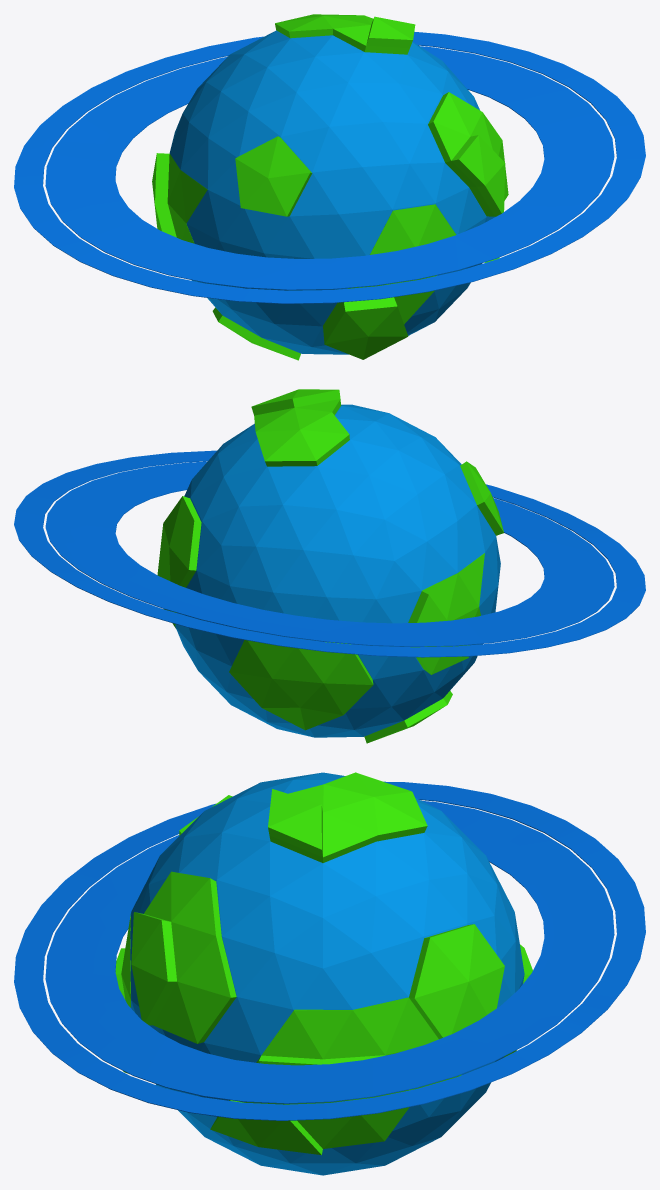
Rendered from Planette_bleu_vert.fbx.
The picture shows the model from 3 angles, top to bottom: view 1: azimuth 30°, elevation 25°; view 2: azimuth 150°, elevation 25°; view 3: azimuth 270°, elevation 25°; orthographic projection. The views are drawn at different scales.
Visible parts, largest first — view 1: SaturnRing, Icosphère.001, Icosphère; view 2: Icosphère.001, SaturnRing, Icosphère; view 3: SaturnRing, Icosphère.001, Icosphère.
Part boxes in pixels (x1=…): SaturnRing: x1=14, y1=31, x2=645, y2=303; Icosphère.001: x1=169, y1=30, x2=495, y2=354; Icosphère: x1=152, y1=14, x2=508, y2=360; Icosphère.001: x1=175, y1=404, x2=500, y2=737; SaturnRing: x1=14, y1=450, x2=645, y2=657; Icosphère: x1=157, y1=389, x2=503, y2=743; SaturnRing: x1=14, y1=781, x2=645, y2=1120; Icosphère.001: x1=130, y1=772, x2=524, y2=1175; Icosphère: x1=115, y1=772, x2=532, y2=1154.
Size of the model in its own units: 409 by 215 by 326.
